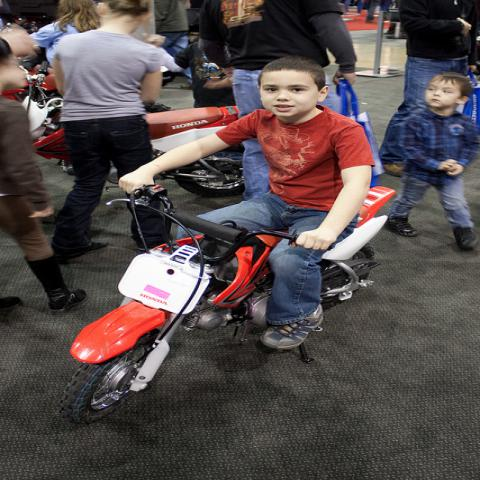motorcycle: (57, 185, 388, 419), (152, 124, 251, 192), (145, 105, 240, 143)
